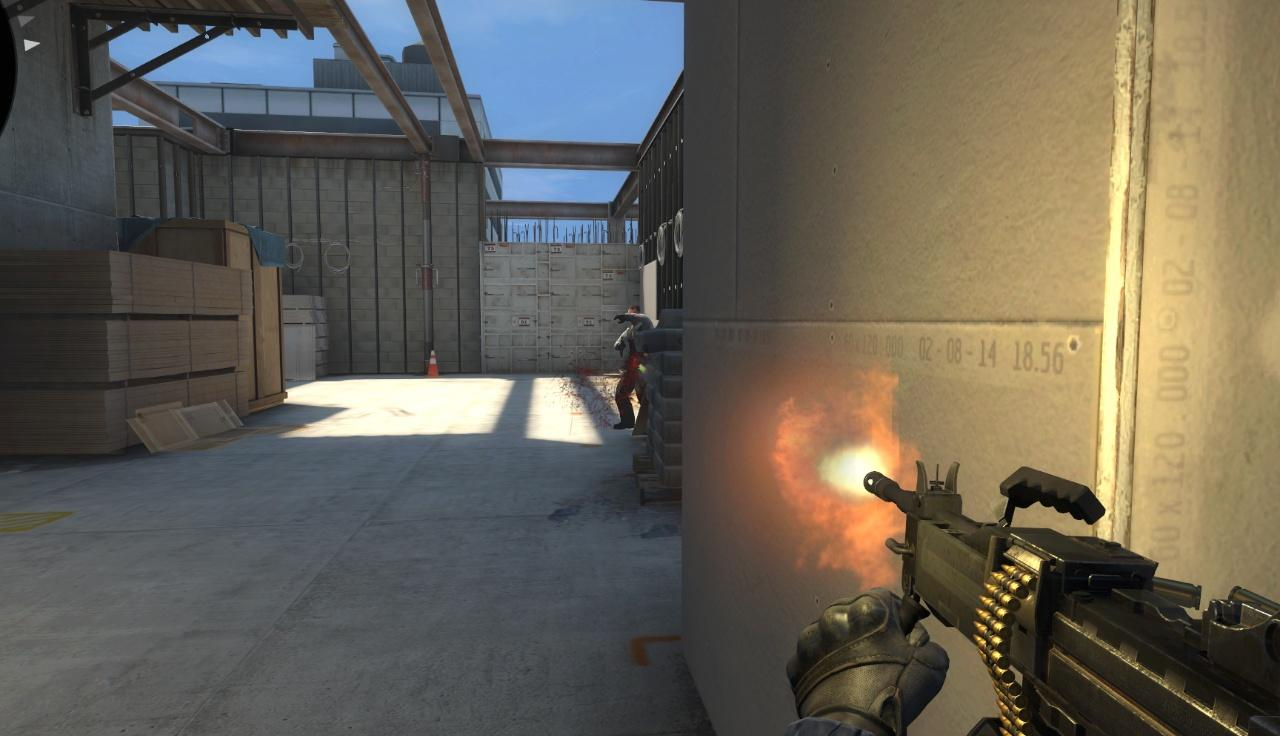rifle: (854, 462, 1280, 736)
tt: (612, 307, 651, 430)
tthead: (627, 305, 642, 325)
